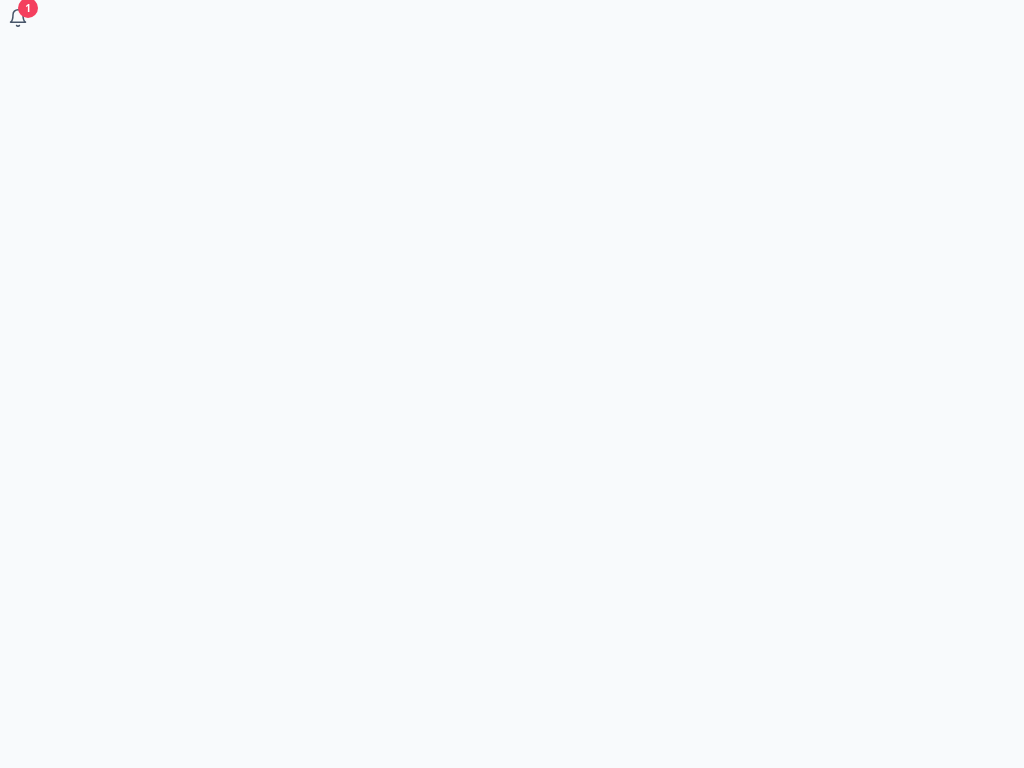
Scenario: NotificationBell › stays open until the user dismisses it
Click the button named "Notifications" at (18, 18), box [0,0,36,36]
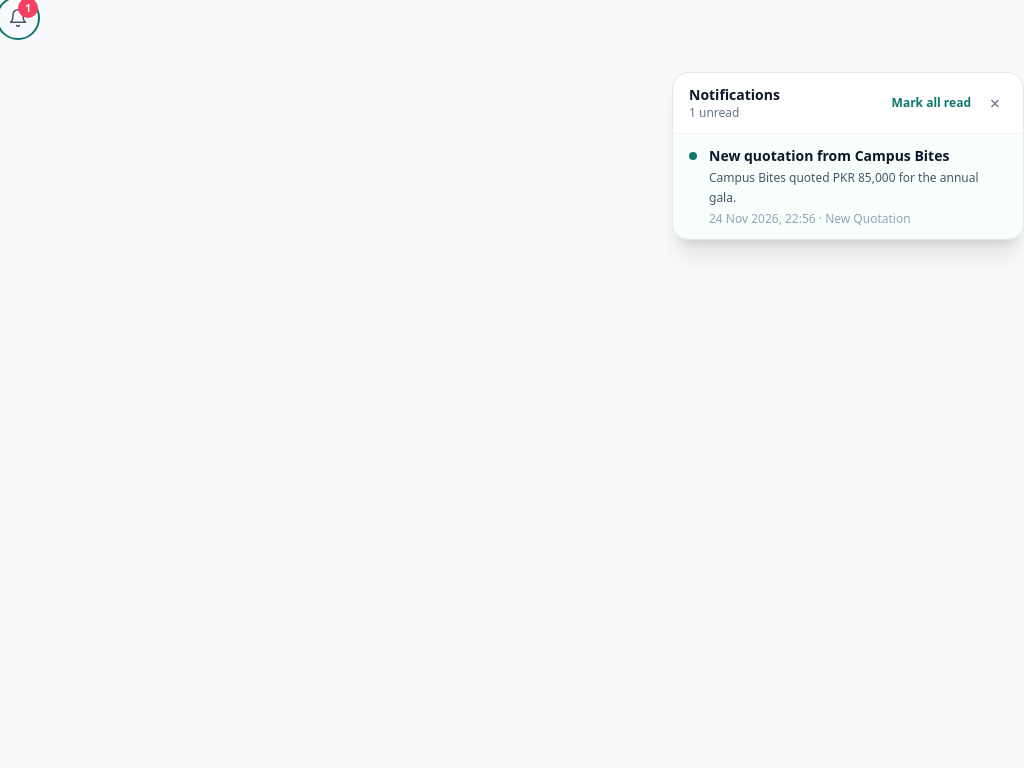
Result: the text "New quotation from Campus Bites" is shown at [709,146,949,165]
Click the element that starts with "Notifications" at (512, 384), box [0,0,1023,767]
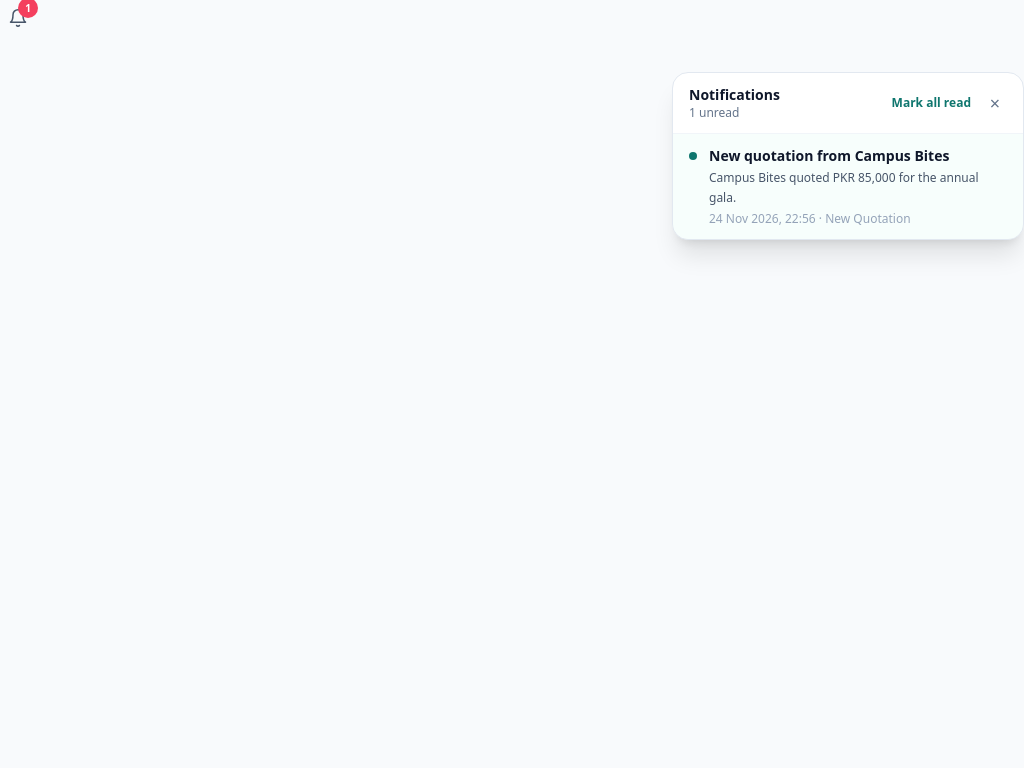
Result: the dialog "Notifications" is shown at [672,72,1023,240]
Click the button named "Close notifications" at (995, 103), box [983,91,1007,115]
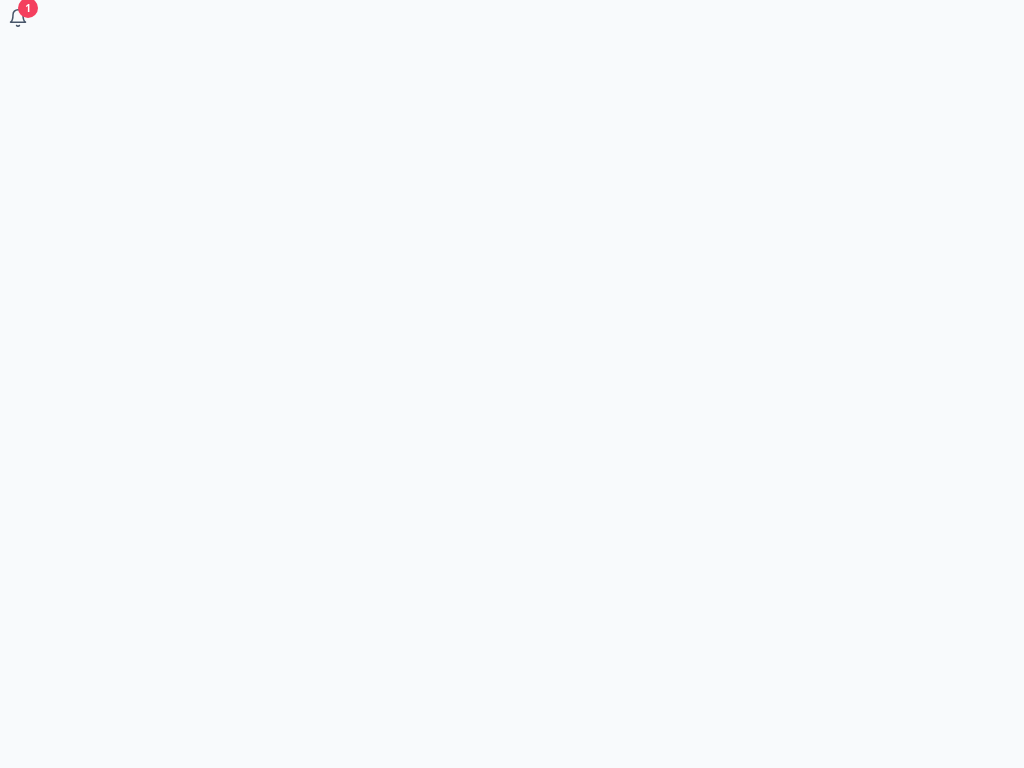
Result: the text "Notifications" is gone
